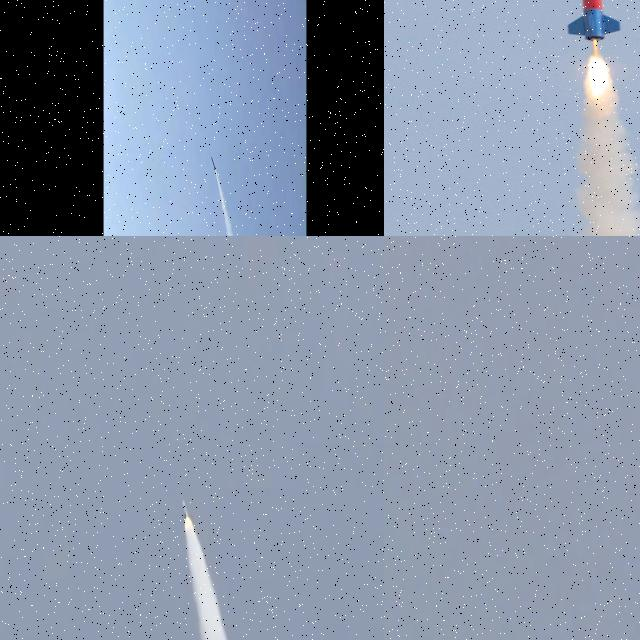Rocket: (565, 0, 621, 42), (182, 498, 192, 524), (211, 156, 216, 171)
